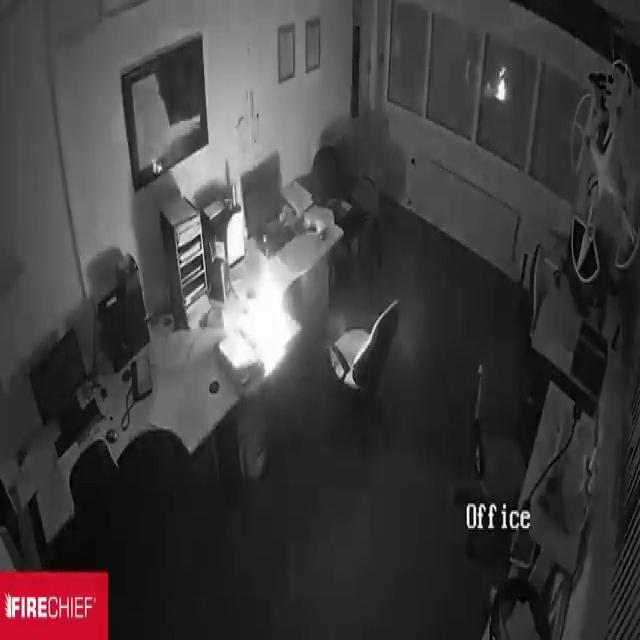fire: (212, 240, 308, 407)
